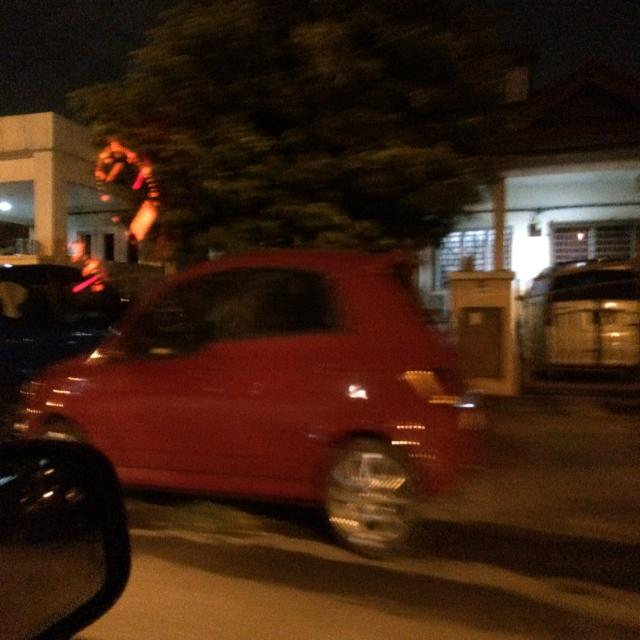Car: (2, 243, 482, 554)
